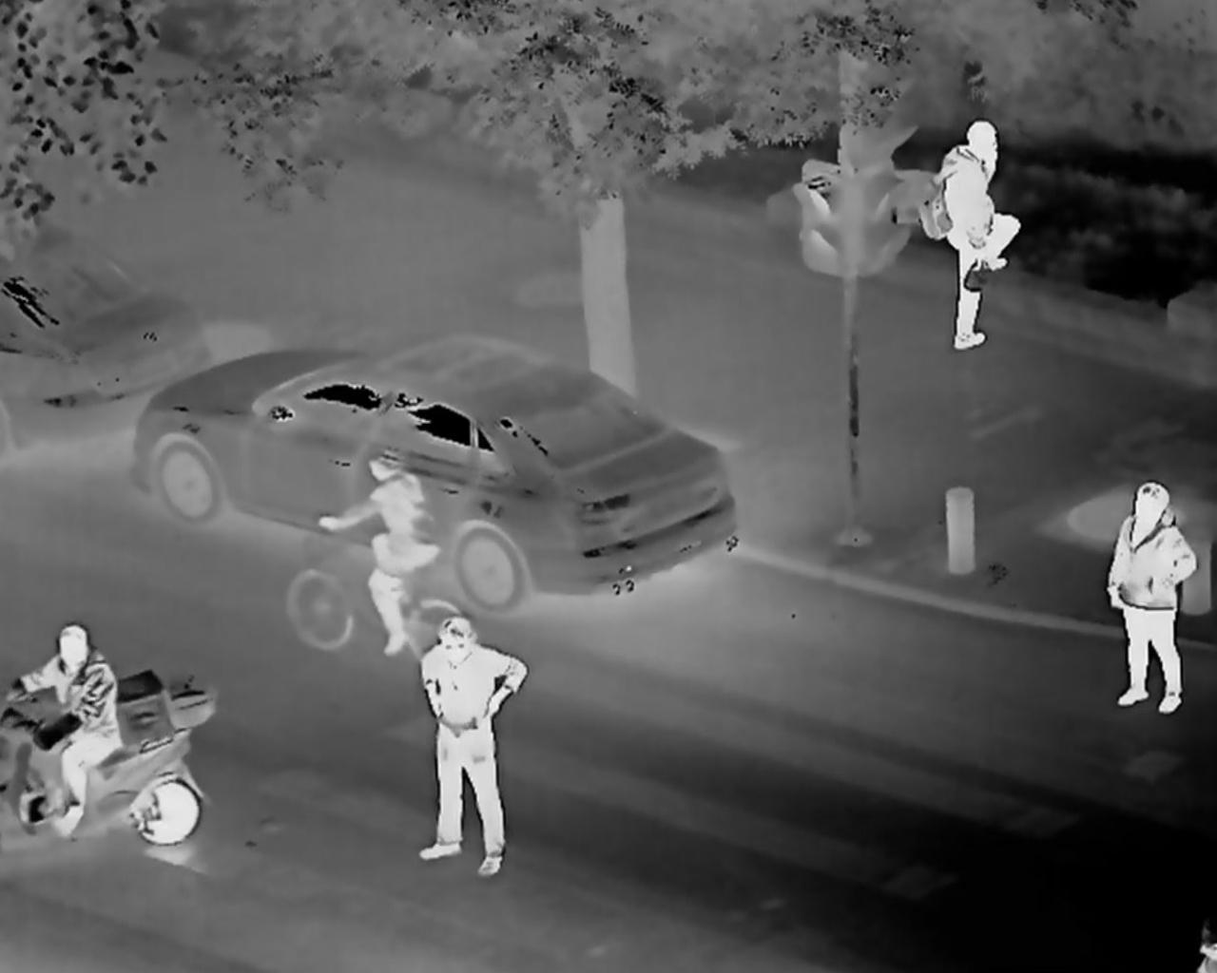person: (415, 616, 529, 882), (3, 616, 126, 839), (1095, 482, 1206, 713), (317, 453, 439, 652), (926, 118, 1025, 354)
